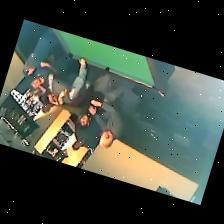person: (60, 73, 120, 127), (91, 88, 138, 147), (23, 27, 57, 74), (71, 118, 100, 149)
